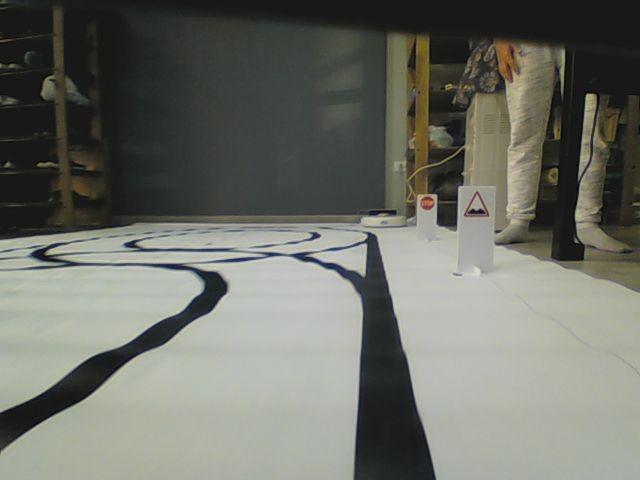Nerov: (463, 189, 490, 219)
